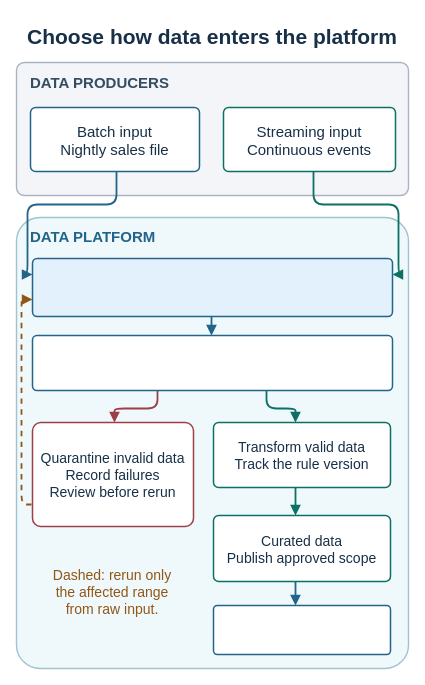
This 425x685 diagram has some shape labels left out. The centre of each missing label's shape, as x and y in pixels:
Consumers: (x=301, y=629)
Retain raw data Original records with arrival times: (x=212, y=287)
Validate record shape and values: (x=212, y=362)
